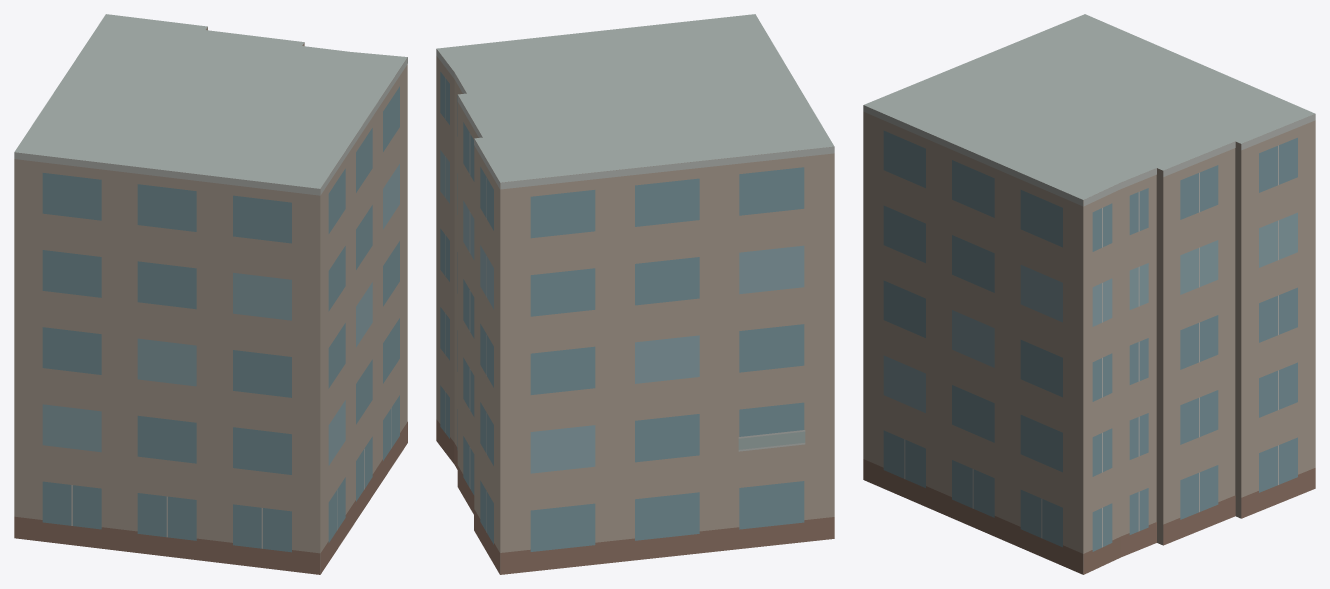
Rendered from survey-upis-32525195.glb.
The picture shows the model from 3 angles, left to right: view 1: azimuth 30°, elevation 25°; view 2: azimuth 150°, elevation 25°; view 3: azimuth 270°, elevation 25°; orthographic projection. The views are drawn at different scales.
Visible parts, largest first — view 1: survey-upis-32525195.tmp; view 2: survey-upis-32525195.tmp; view 3: survey-upis-32525195.tmp.
Part boxes in pixels (bbox=[...]): survey-upis-32525195.tmp: bbox=[14, 14, 407, 574]; survey-upis-32525195.tmp: bbox=[436, 14, 834, 574]; survey-upis-32525195.tmp: bbox=[863, 14, 1315, 574].
Bounding box in the file's own units: 14.8 × 13.9 × 15.2.
